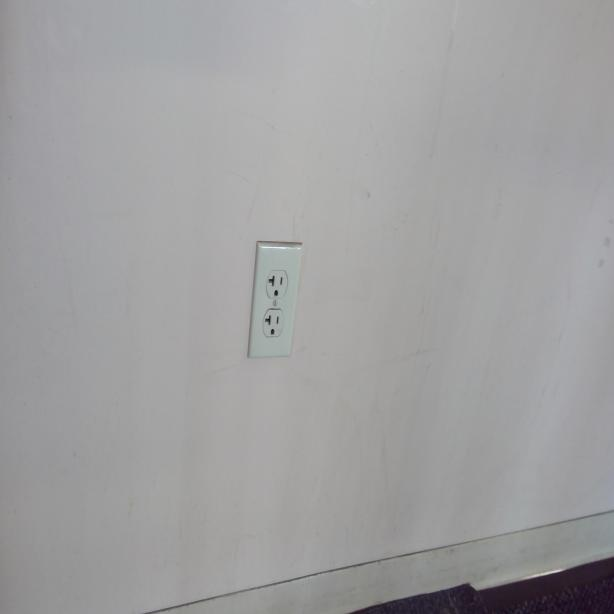typeb: (263, 310, 283, 339), (268, 271, 286, 298)
